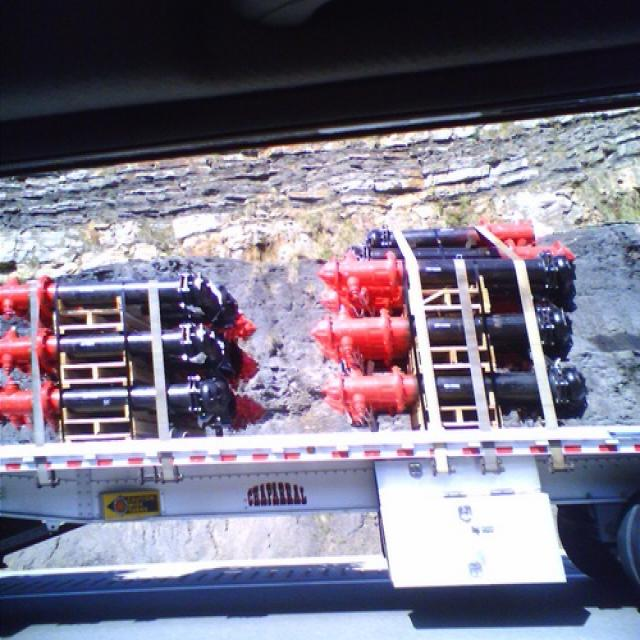fire_hydrant: (311, 362, 586, 422), (0, 363, 236, 432), (0, 274, 234, 314), (307, 302, 411, 358), (315, 250, 402, 296), (316, 280, 405, 317), (0, 323, 56, 376), (503, 237, 579, 259), (227, 344, 257, 389), (229, 392, 264, 430), (215, 310, 255, 341)
truck: (0, 424, 635, 608)
